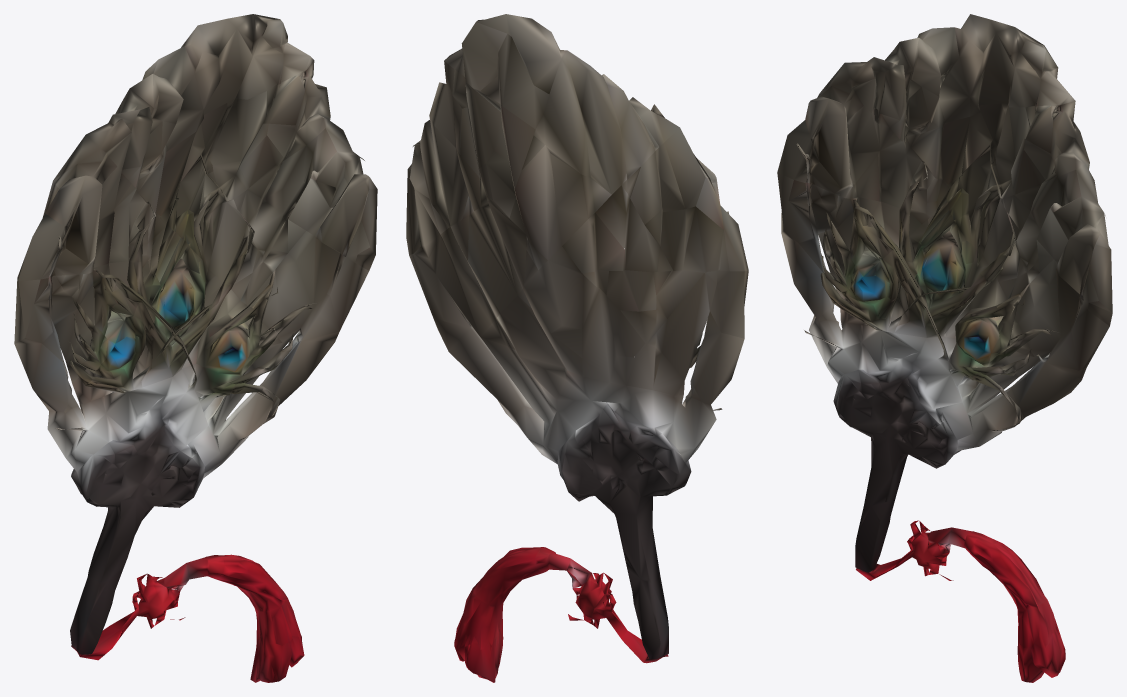
Rendered from fan-baiyu.glb.
The picture shows the model from 3 angles, left to right: view 1: azimuth 30°, elevation 25°; view 2: azimuth 150°, elevation 25°; view 3: azimuth 330°, elevation 25°; orthographic projection. The views are drawn at different scales.
Parts seen in each view (by area): view 1: fan-baiyu; view 2: fan-baiyu; view 3: fan-baiyu.
Part boxes in pixels (box(x1,y1,x2,y2)): fan-baiyu: box(14, 14, 377, 682); fan-baiyu: box(406, 14, 748, 682); fan-baiyu: box(777, 14, 1112, 682).
Size of the model in its own units: 0.3378 by 0.62 by 0.064.
